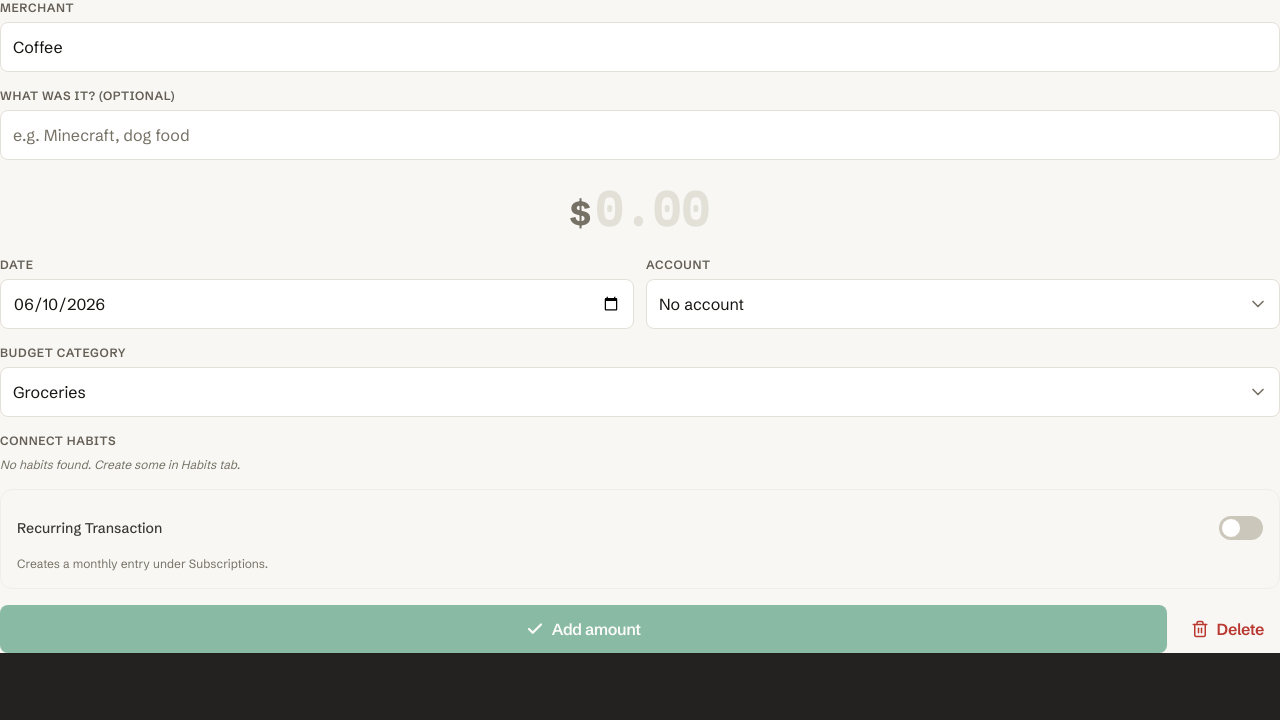
Test: TransactionReviewForm › disables Approve for a $0 needsAmount stub until a valid amount is entered
expect the button "Add amount" is disabled: met, box [0,605,1167,653]
# A sub-cent entry rounds to $0 and must stay rejected.
Type "0.004" into the number field named "amount".
click(653, 208); type("0.004")  # box [595,180,710,237]
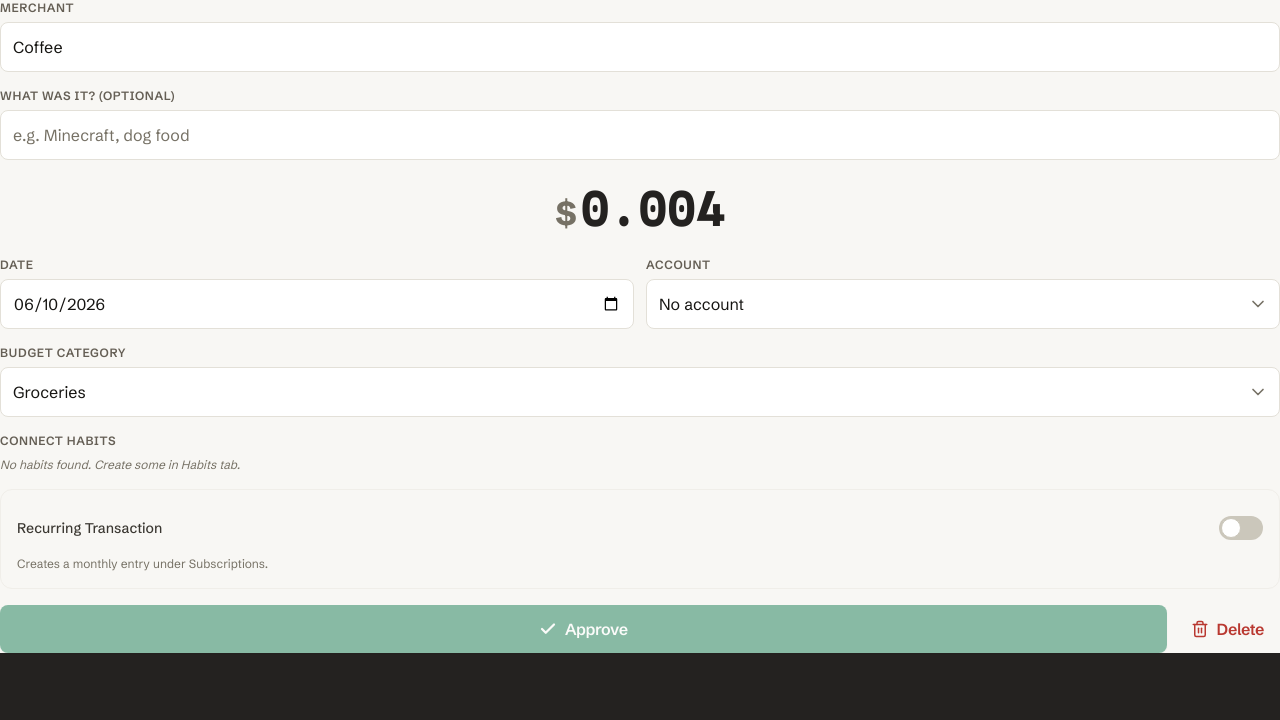
expect the button "Approve" is disabled: met, box [0,605,1167,653]
# A real amount unlocks it.
Clear the number field named "amount" at (653, 208), box [581,180,725,237]
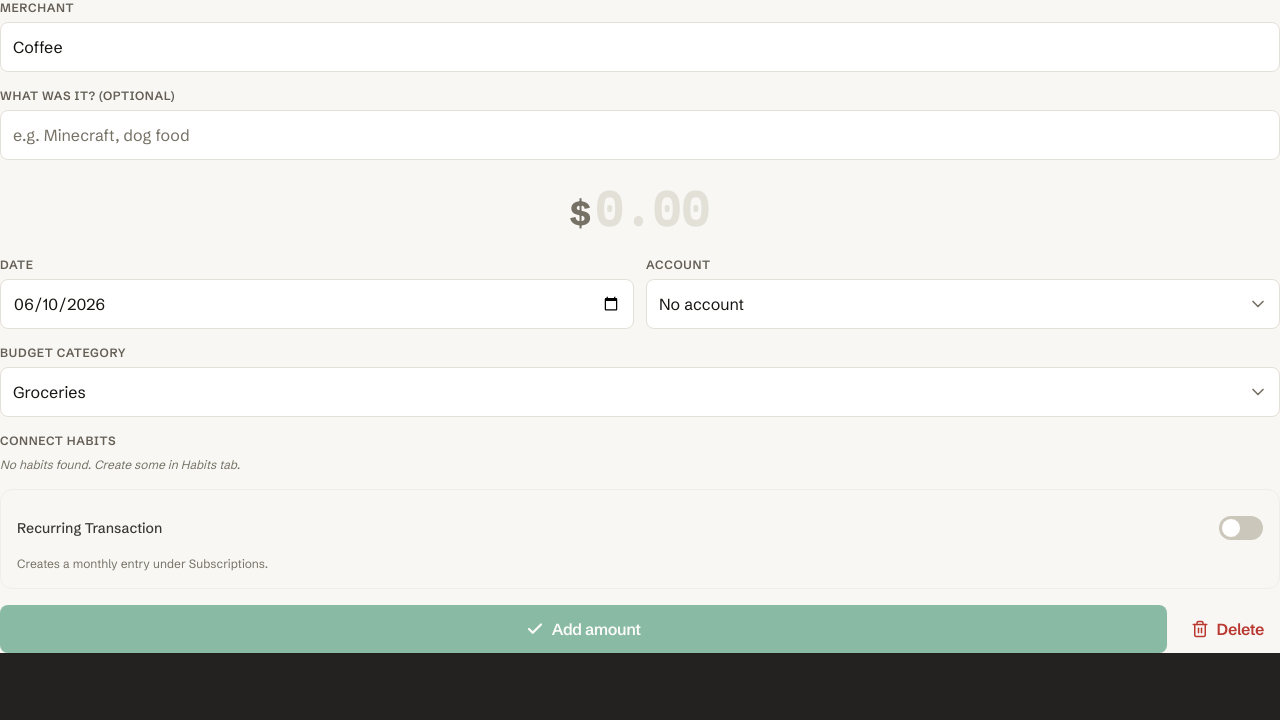
Type "12.50" into the number field named "amount".
click(653, 208); type("12.50")  # box [595,180,710,237]
(page scrolled)
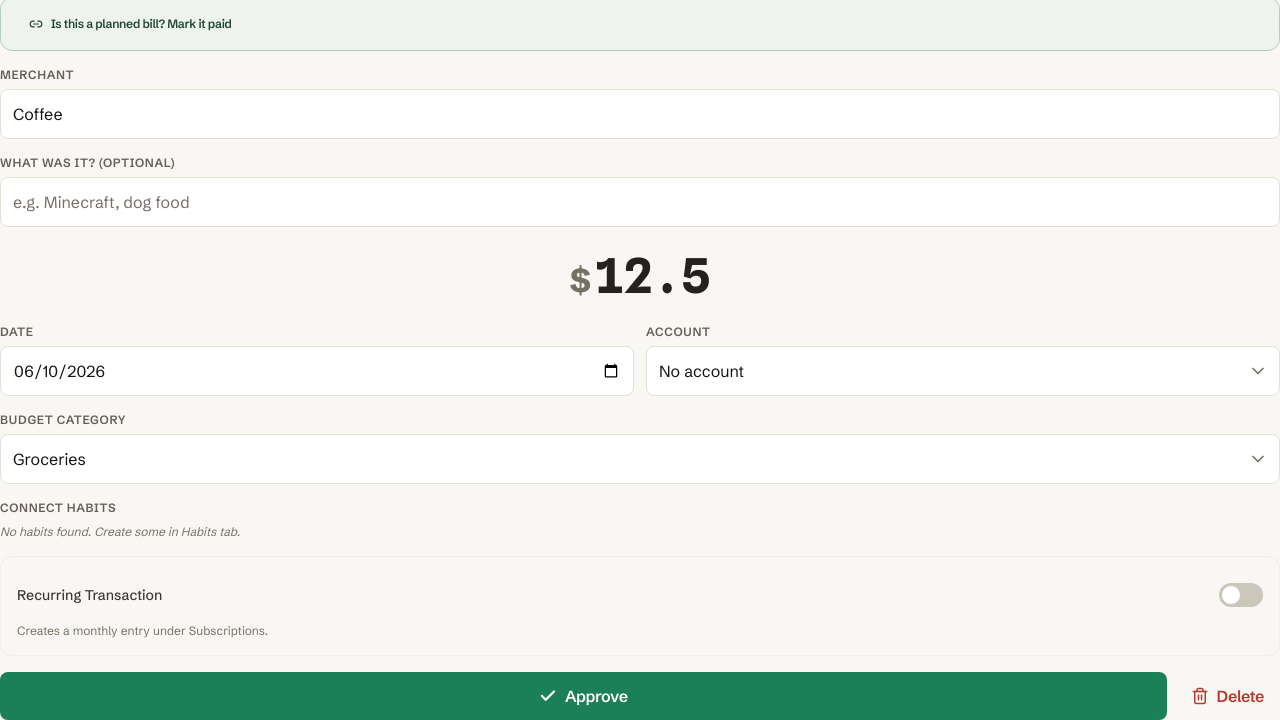
expect the button "Approve" is enabled: met, box [0,672,1167,719]
